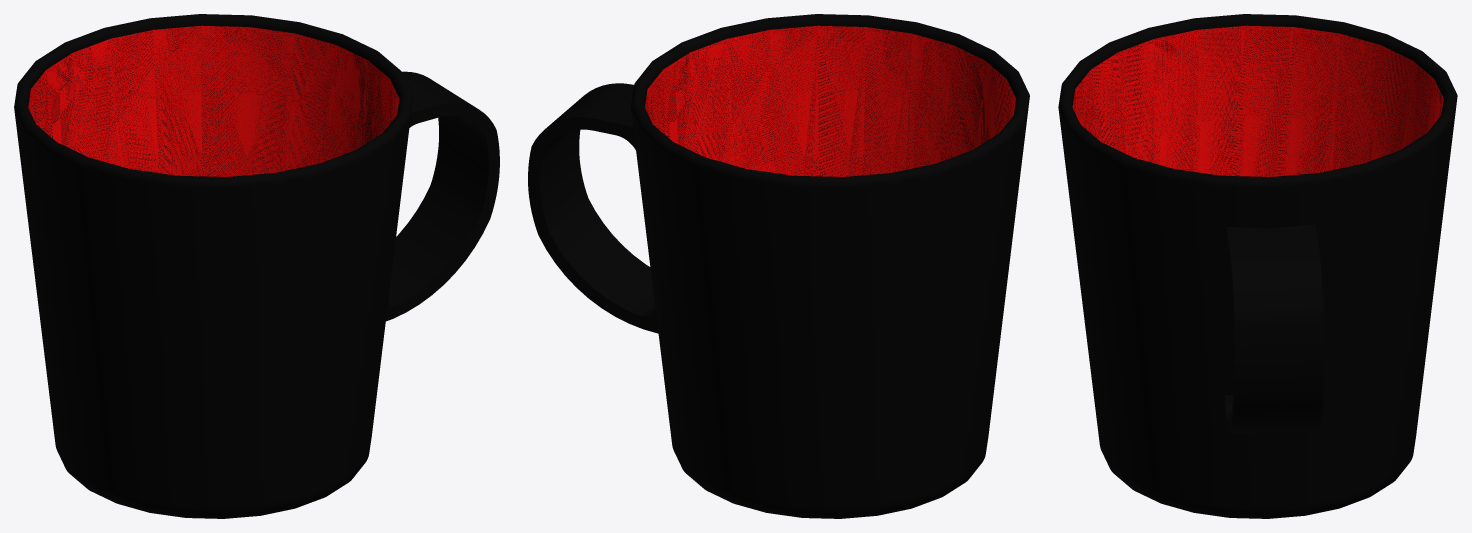
Rendered from mug_13_origin_gt_4.dae.
3 renders of one model, left to right at view 1: azimuth 30°, elevation 25°; view 2: azimuth 150°, elevation 25°; view 3: azimuth 270°, elevation 25°, orthographic.
Parts seen in each view (by area): view 1: group_0 (×2), Group_1525; view 2: group_0 (×2), Group_1525; view 3: group_0 (×2), Group_1525.
Part boxes in pixels (x1,y1,x2,y2): group_0 (×2): (14,14,413,518); Group_1525: (386,71,499,321); group_0 (×2): (630,14,1029,518); Group_1525: (528,83,658,333); group_0 (×2): (1058,14,1457,518); Group_1525: (1224,224,1323,433).
Bounding box in the file's own units: 4.56 × 3.52 × 3.54.
